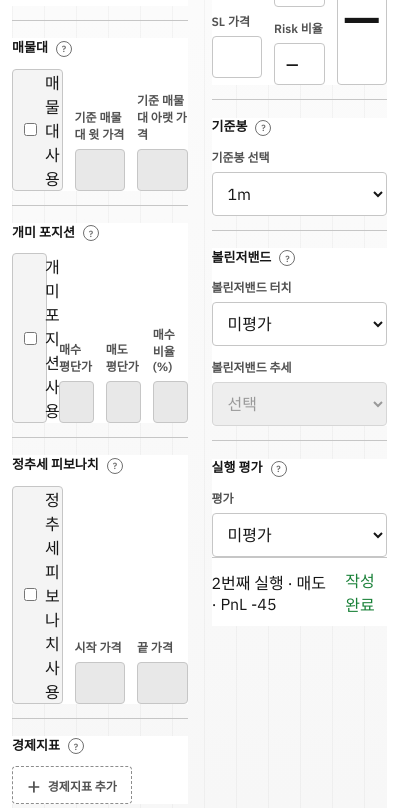
Test: TradeDetail split execution ownership › gives each mobile accordion toggle ownership of only its open execution panel
(page scrolled)
Click the button "2번째 실행 · 매도 · PnL -45 작성 완료": click(299, 592) [212, 558, 387, 626]
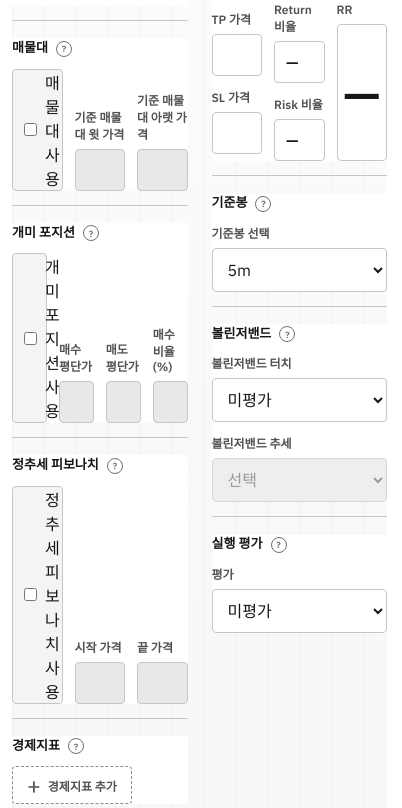
Check: the dropdown showing "5m" is shown, box [212, 248, 387, 292]
